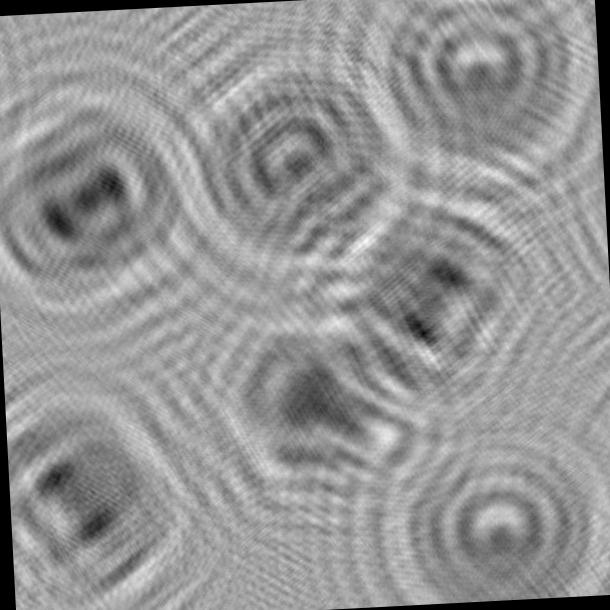A: (200, 286, 443, 520)
B: (0, 52, 224, 345)
C: (348, 0, 604, 199), (369, 416, 610, 606)
D: (170, 30, 428, 293)
E: (312, 172, 558, 426), (3, 358, 219, 610)
